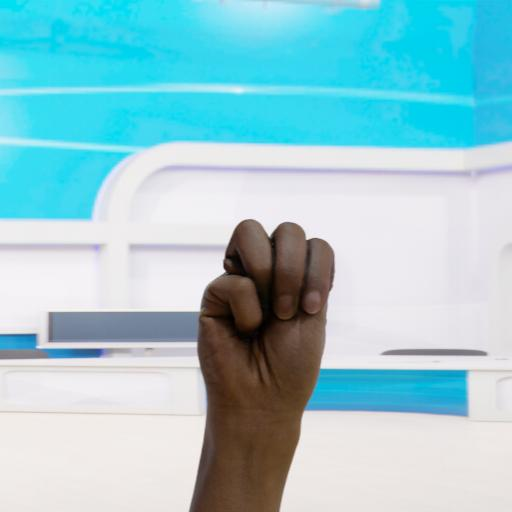M: (166, 195, 367, 450)
